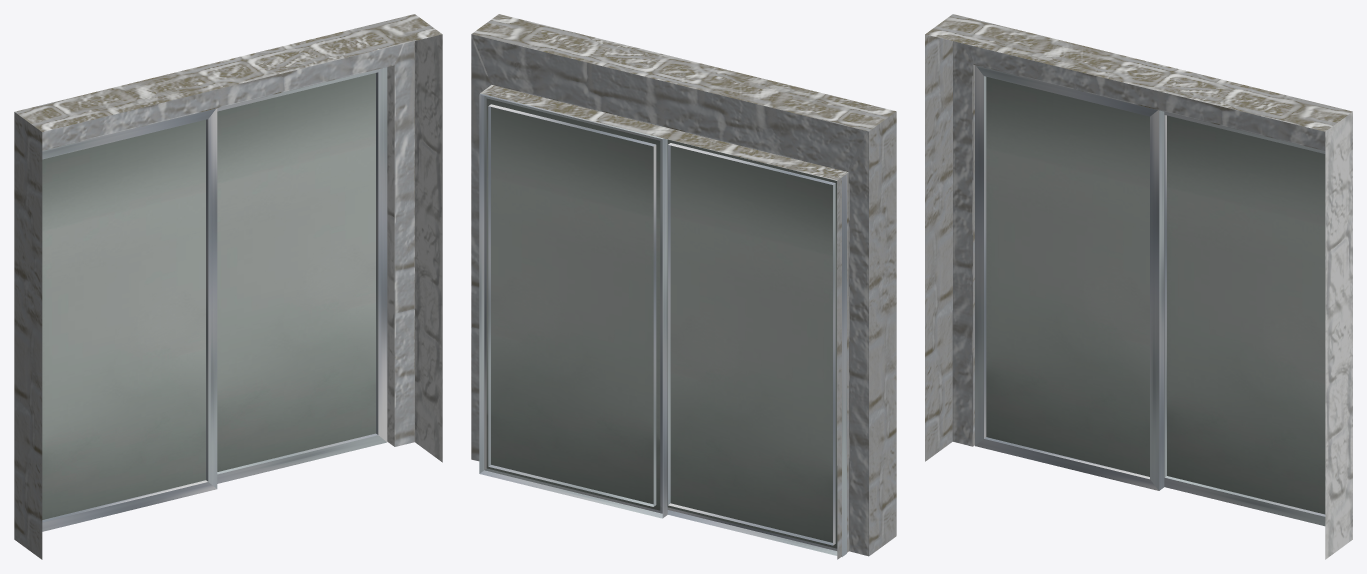
Rendered from Door_001.fbx.
3 renders of one model, left to right at view 1: azimuth 30°, elevation 25°; view 2: azimuth 150°, elevation 25°; view 3: azimuth 330°, elevation 25°, orthographic.
Visible parts, largest first — view 1: Door_001; view 2: Door_001; view 3: Door_001.
Boxes of the visible parts, x1,y1,x2,y2 form: Door_001: [14, 14, 442, 559]; Door_001: [471, 14, 896, 559]; Door_001: [925, 14, 1352, 559].
Size of the model in its own units: 227 by 233 by 39.38.
1 material, 1 textured.
